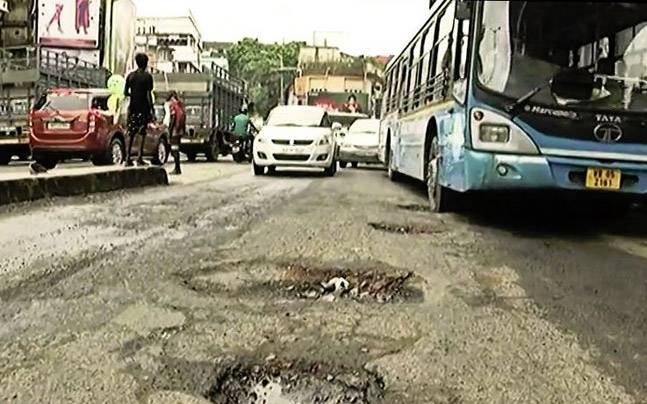pothole: (197, 246, 405, 313), (201, 345, 373, 399), (366, 210, 445, 242)
